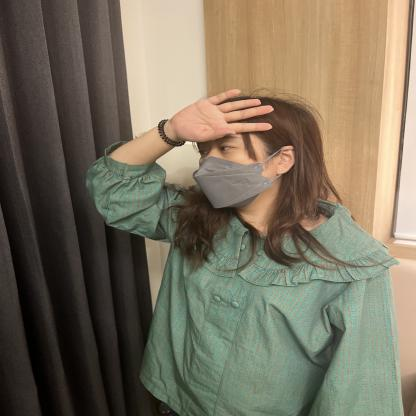Sick: (98, 42, 327, 206)
